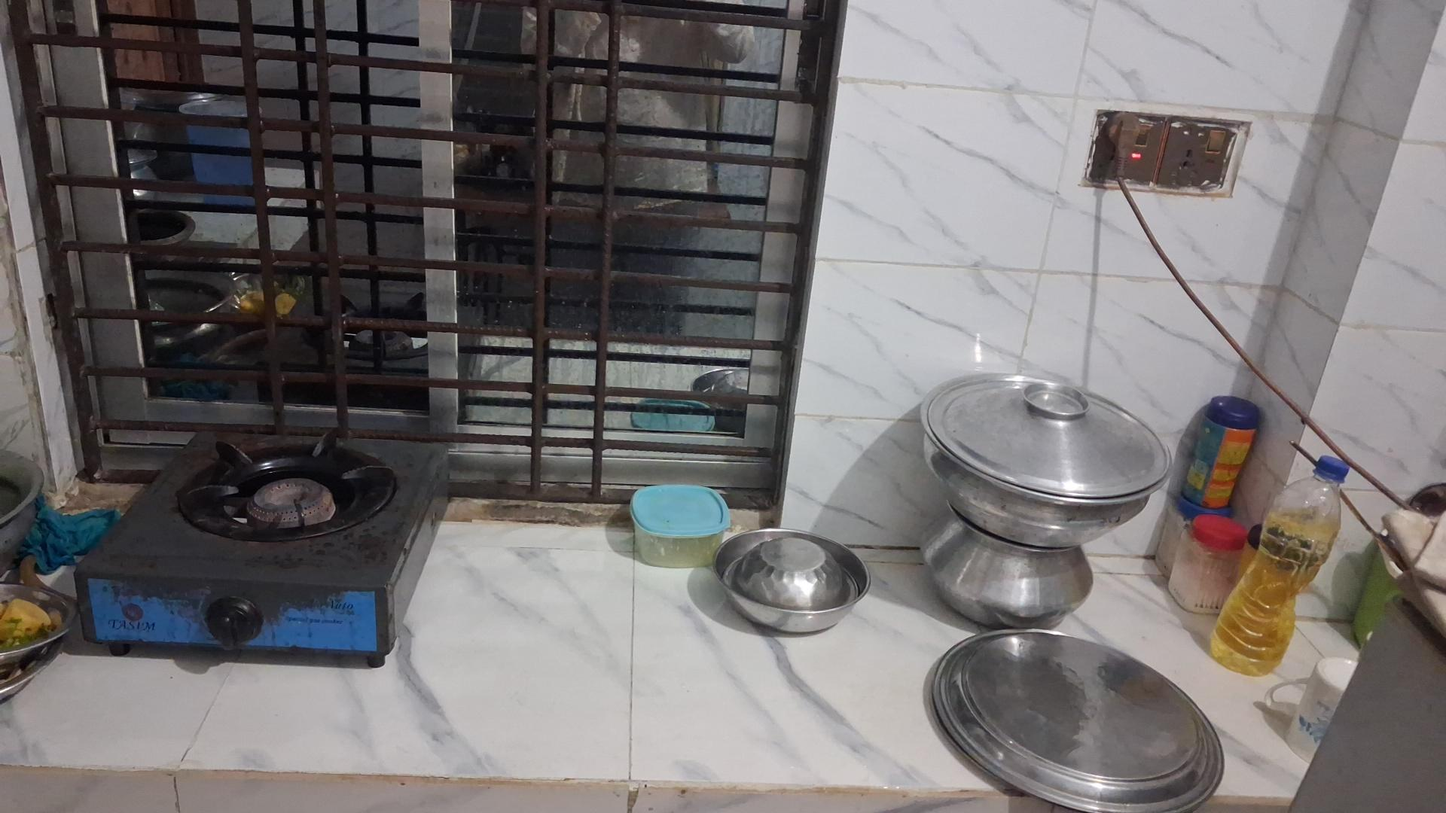Bottle: (1206, 452, 1349, 678)
Bowl: (713, 527, 869, 635)
Jar: (629, 484, 731, 568), (1185, 401, 1256, 517), (1171, 507, 1245, 615)
Plate: (924, 632, 1225, 806)
Pot: (918, 372, 1176, 551), (922, 524, 1089, 635)
